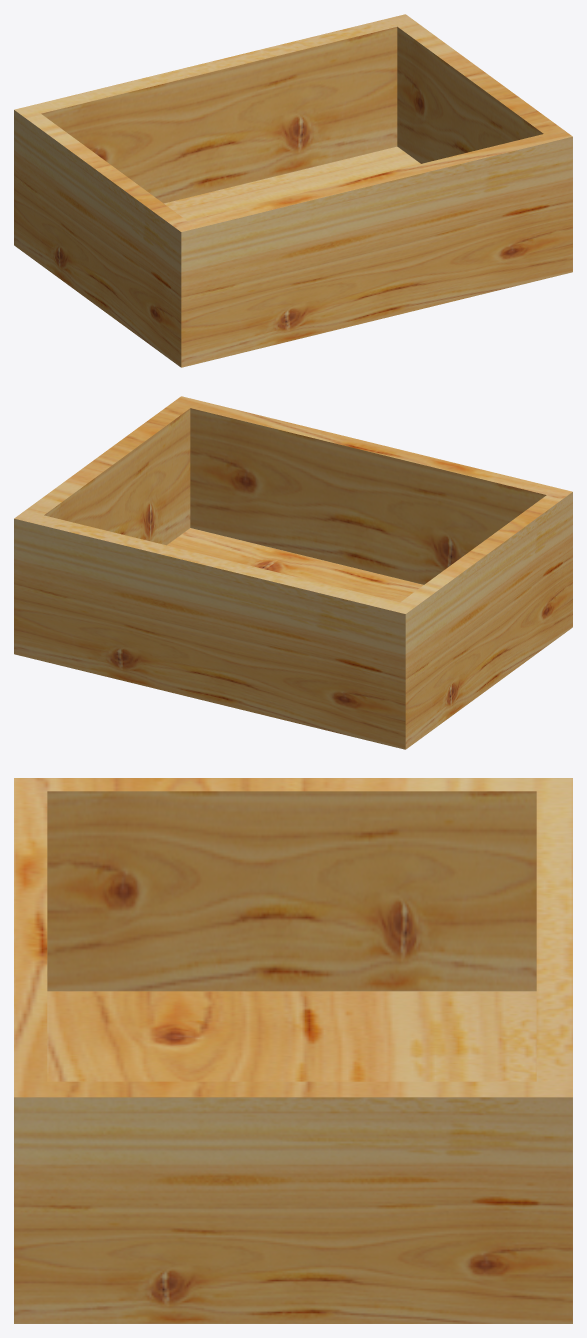
Rendered from bac.dae.
The picture shows the model from 3 angles, top to bottom: view 1: azimuth 30°, elevation 25°; view 2: azimuth 150°, elevation 25°; view 3: azimuth 270°, elevation 25°; orthographic projection. The views are drawn at different scales.
Visible parts, largest first — view 1: box; view 2: box; view 3: box.
Part boxes in pixels (left/top/right/bottom): box: left=14, top=14, right=572, bottom=367; box: left=14, top=396, right=572, bottom=749; box: left=14, top=778, right=572, bottom=1323.
Size of the model in its own units: 80.72 by 59.72 by 26.71.
Materials: 1 (1 with a texture image).
